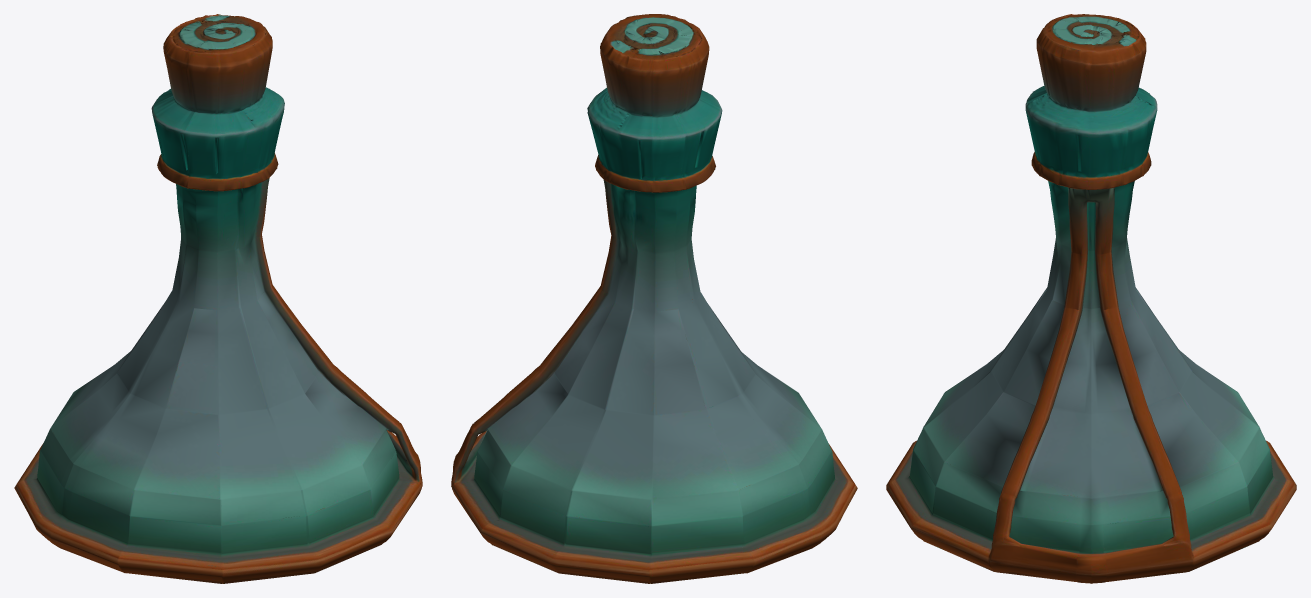
Rendered from potion.glb.
3 renders of one model, left to right at view 1: azimuth 30°, elevation 25°; view 2: azimuth 150°, elevation 25°; view 3: azimuth 270°, elevation 25°, orthographic.
Parts seen in each view (by area): view 1: tripo_node_7d4c55e7-2765-4f73-9169-1b5504558d6c; view 2: tripo_node_7d4c55e7-2765-4f73-9169-1b5504558d6c; view 3: tripo_node_7d4c55e7-2765-4f73-9169-1b5504558d6c.
Boxes of the visible parts, bbox=[...] form: tripo_node_7d4c55e7-2765-4f73-9169-1b5504558d6c: bbox=[14, 14, 422, 583]; tripo_node_7d4c55e7-2765-4f73-9169-1b5504558d6c: bbox=[451, 14, 857, 583]; tripo_node_7d4c55e7-2765-4f73-9169-1b5504558d6c: bbox=[886, 14, 1296, 583].
Size of the model in its own units: 0.7847 by 1 by 0.7847.
1 material, 1 textured.
